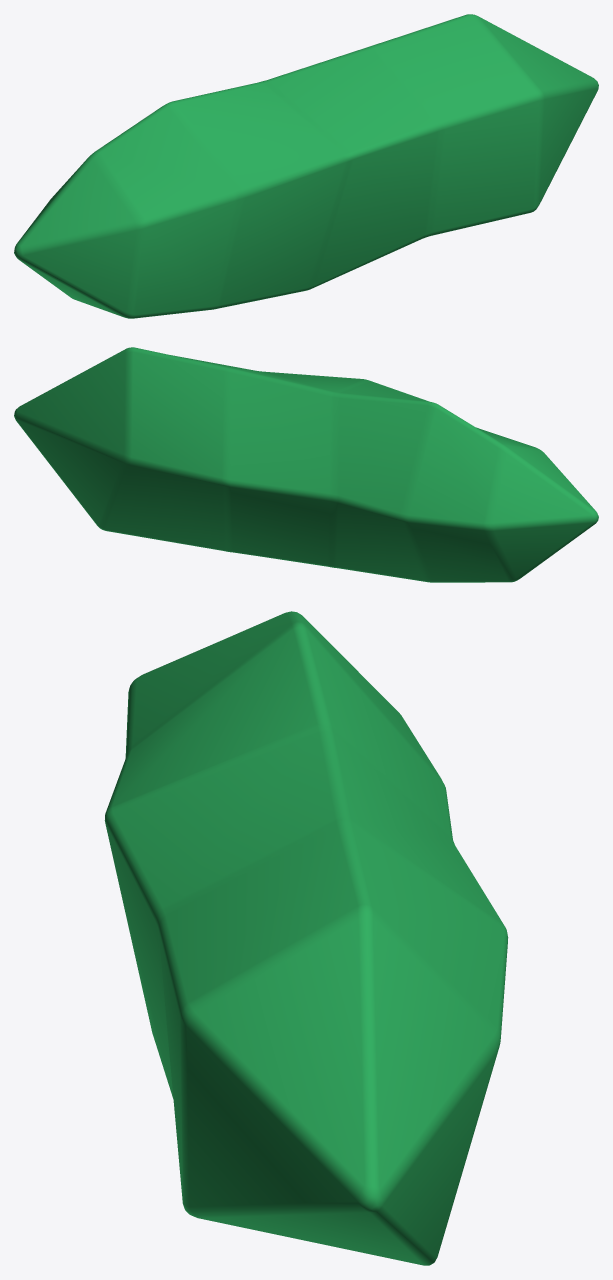
The model's file is Portable Teleporter.fbx.
The picture shows the model from 3 angles, top to bottom: view 1: azimuth 30°, elevation 25°; view 2: azimuth 150°, elevation 25°; view 3: azimuth 270°, elevation 25°; orthographic projection. The views are drawn at different scales.
Parts seen in each view (by area): view 1: Cylinder; view 2: Cylinder; view 3: Cylinder.
Boxes of the visible parts, x1,y1,x2,y2 form: Cylinder: (14,14,598,318); Cylinder: (14,347,598,582); Cylinder: (104,611,508,1265).
Size of the model in its own units: 256 by 77.85 by 80.93.
